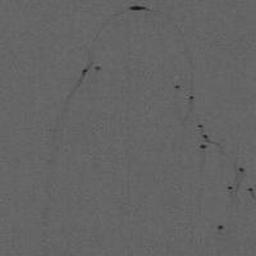Inclusion: (200, 134, 209, 149), (129, 5, 147, 11), (82, 68, 88, 77)
